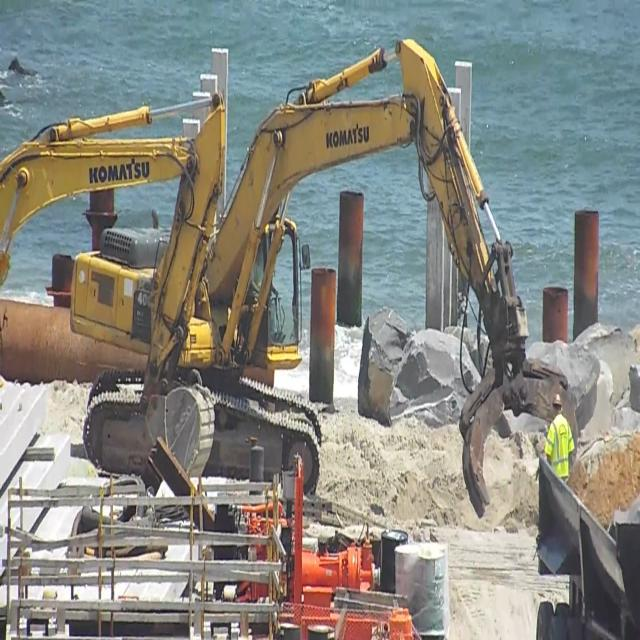machinery: (7, 43, 530, 492)
worker: (547, 389, 575, 486)
